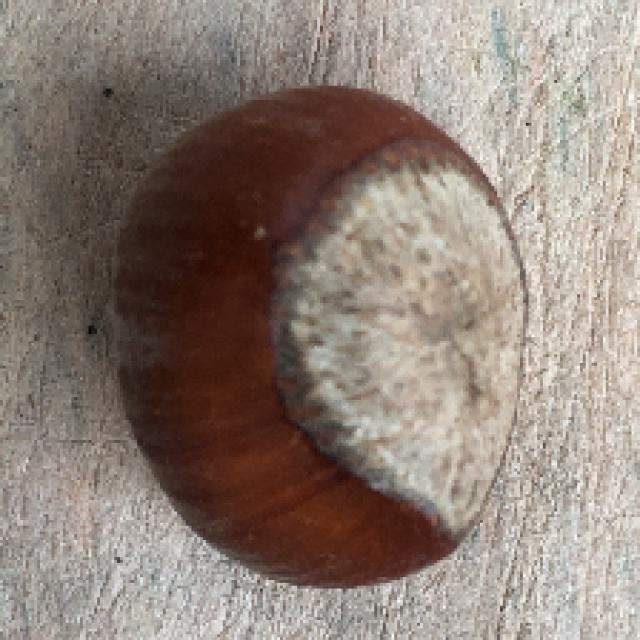qualityHazelnut: (110, 67, 533, 592)
